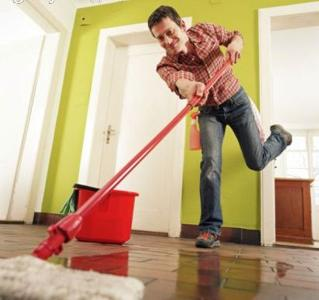person: (148, 6, 294, 252)
